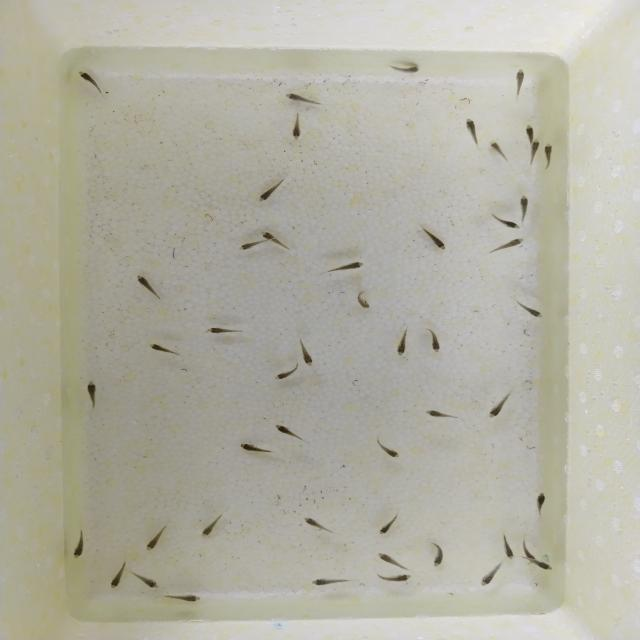fingerling: (485, 384, 520, 420), (254, 174, 292, 204), (416, 222, 451, 252), (316, 259, 368, 279), (75, 69, 109, 99), (197, 508, 230, 538), (510, 297, 548, 323), (134, 272, 164, 304), (369, 432, 402, 461), (142, 521, 172, 552), (483, 236, 528, 256), (474, 563, 505, 591), (298, 515, 339, 536), (507, 66, 531, 100), (295, 335, 320, 367), (393, 322, 415, 358), (144, 341, 188, 359), (421, 407, 465, 424), (308, 574, 354, 590), (376, 510, 404, 536), (495, 531, 519, 561), (422, 324, 445, 355), (282, 92, 326, 108), (459, 115, 481, 146), (522, 555, 556, 575), (129, 569, 162, 589), (374, 550, 410, 568), (83, 377, 101, 413), (286, 110, 306, 142), (484, 140, 510, 164), (203, 324, 251, 337), (529, 490, 551, 518), (426, 540, 448, 568), (237, 441, 278, 456), (352, 286, 374, 312), (71, 527, 88, 560), (108, 560, 126, 591), (158, 591, 204, 603), (384, 62, 422, 76), (373, 572, 417, 584), (528, 137, 542, 169), (273, 422, 298, 437), (517, 194, 533, 216), (271, 369, 295, 383), (496, 220, 523, 232), (544, 142, 554, 172), (234, 240, 255, 253), (521, 123, 536, 135), (260, 230, 278, 240)
